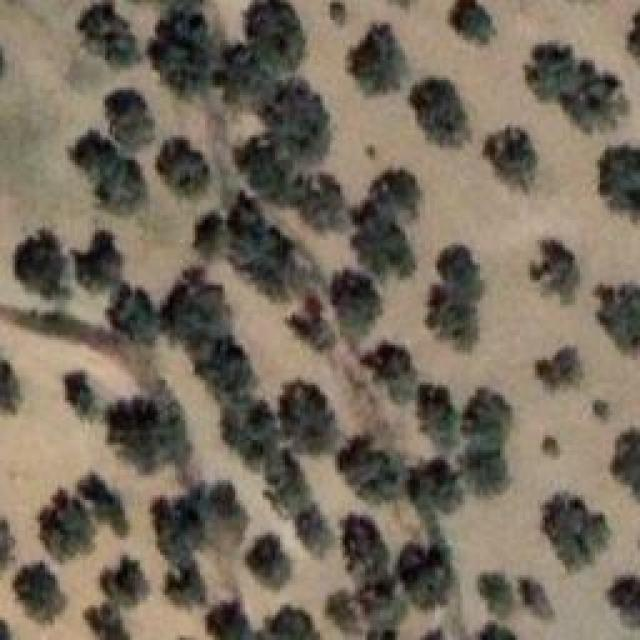Tree: (225, 192, 307, 309), (545, 490, 608, 573), (158, 282, 239, 346), (340, 440, 408, 515), (275, 300, 347, 369), (245, 0, 311, 75), (80, 138, 144, 213), (260, 80, 327, 151), (333, 268, 396, 342), (280, 378, 342, 452), (37, 493, 101, 563), (353, 168, 425, 228), (70, 468, 138, 530), (463, 393, 523, 463), (405, 458, 472, 518), (198, 483, 256, 552), (575, 70, 632, 140), (110, 398, 166, 468), (145, 493, 199, 565), (485, 120, 542, 187), (415, 75, 465, 151), (343, 508, 395, 577), (263, 450, 314, 519), (368, 335, 421, 401), (525, 45, 585, 103), (225, 396, 281, 458), (288, 173, 357, 223), (83, 8, 141, 67), (233, 134, 288, 196), (350, 28, 407, 86), (358, 215, 410, 278), (80, 235, 134, 295), (100, 553, 160, 607), (15, 233, 69, 290), (18, 555, 69, 614), (165, 3, 224, 53), (200, 345, 253, 400), (405, 543, 454, 602), (602, 145, 640, 220), (533, 235, 577, 299), (430, 293, 484, 345), (78, 593, 136, 640), (602, 280, 640, 350), (448, 0, 503, 48), (417, 382, 458, 446), (150, 38, 201, 89), (155, 138, 205, 190), (482, 573, 525, 628), (110, 285, 159, 329), (163, 557, 212, 601), (270, 600, 323, 640), (110, 105, 155, 152), (363, 580, 408, 626), (250, 530, 292, 579), (535, 345, 579, 391), (445, 245, 488, 292), (607, 568, 640, 626), (512, 575, 553, 620), (190, 215, 230, 261), (63, 370, 99, 420), (295, 507, 337, 549), (330, 595, 365, 639), (0, 356, 21, 418), (475, 613, 521, 640), (615, 433, 640, 478), (323, 0, 350, 33), (630, 8, 640, 71)
